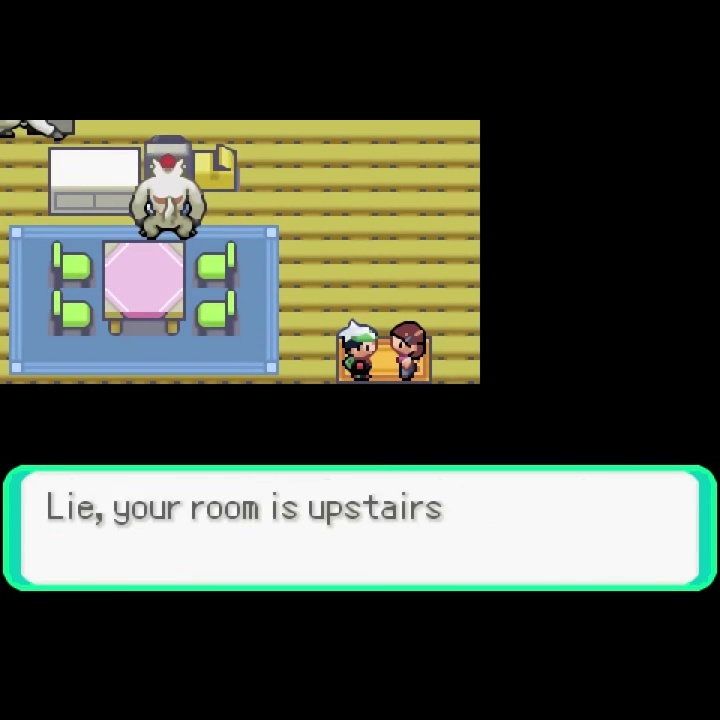exit: (334, 334, 435, 439)
npc: (333, 317, 381, 383), (386, 317, 430, 383)
